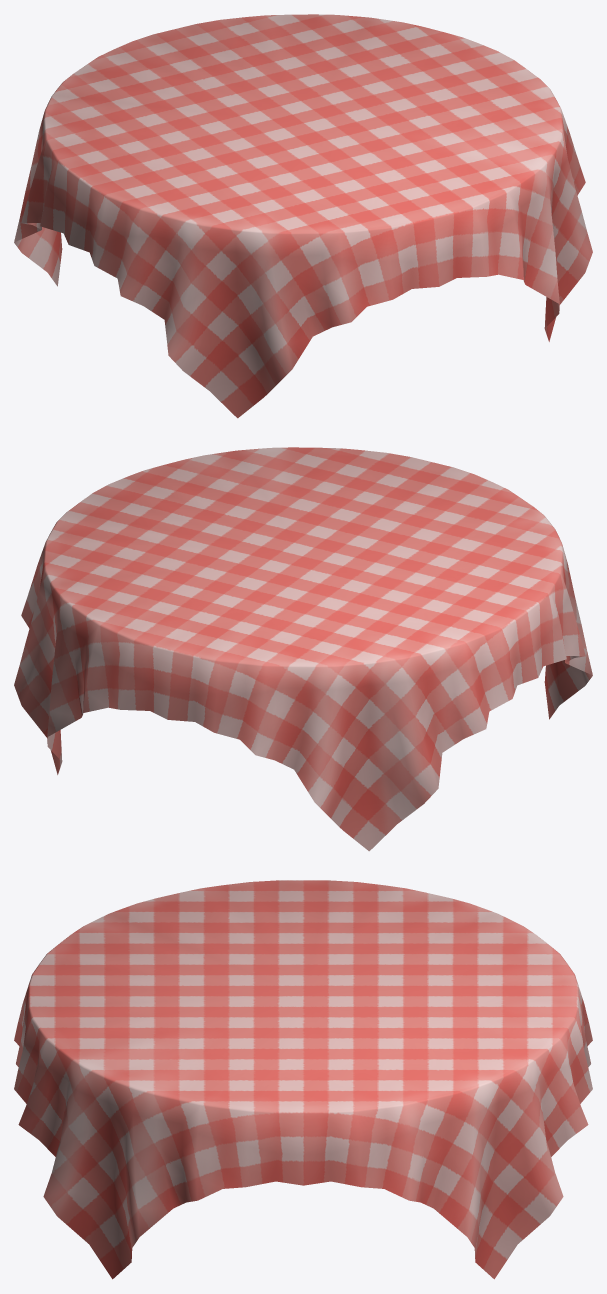
The model's file is SM_Tablecloth.FBX.
The picture shows the model from 3 angles, top to bottom: view 1: azimuth 30°, elevation 25°; view 2: azimuth 150°, elevation 25°; view 3: azimuth 270°, elevation 25°; orthographic projection. The views are drawn at different scales.
Parts seen in each view (by area): view 1: SM_Tablecloth; view 2: SM_Tablecloth; view 3: SM_Tablecloth.
Part boxes in pixels (x1=…): SM_Tablecloth: x1=14, y1=14, x2=592, y2=418; SM_Tablecloth: x1=14, y1=447, x2=592, y2=851; SM_Tablecloth: x1=14, y1=880, x2=592, y2=1279.
Bounding box in the file's own units: 177 × 177 × 68.46.
